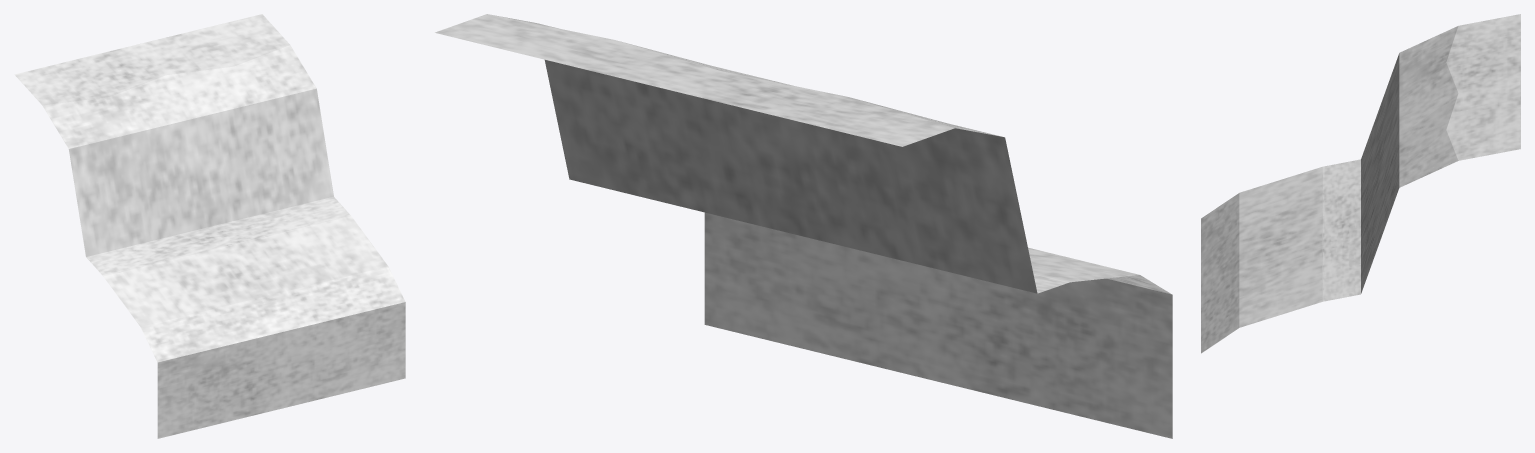
File: NSwall2x2x2a_wtf.obj
3 renders of one model, left to right at view 1: azimuth 30°, elevation 25°; view 2: azimuth 150°, elevation 25°; view 3: azimuth 270°, elevation 25°, orthographic. The views are drawn at different scales.
Visible parts, largest first — view 1: group2; view 2: group2; view 3: group2.
Boxes of the visible parts, x1,y1,x2,y2 form: group2: [14, 14, 405, 438]; group2: [435, 14, 1172, 438]; group2: [1201, 14, 1520, 353].
Bounding box in the file's own units: 660 × 660 × 660.
